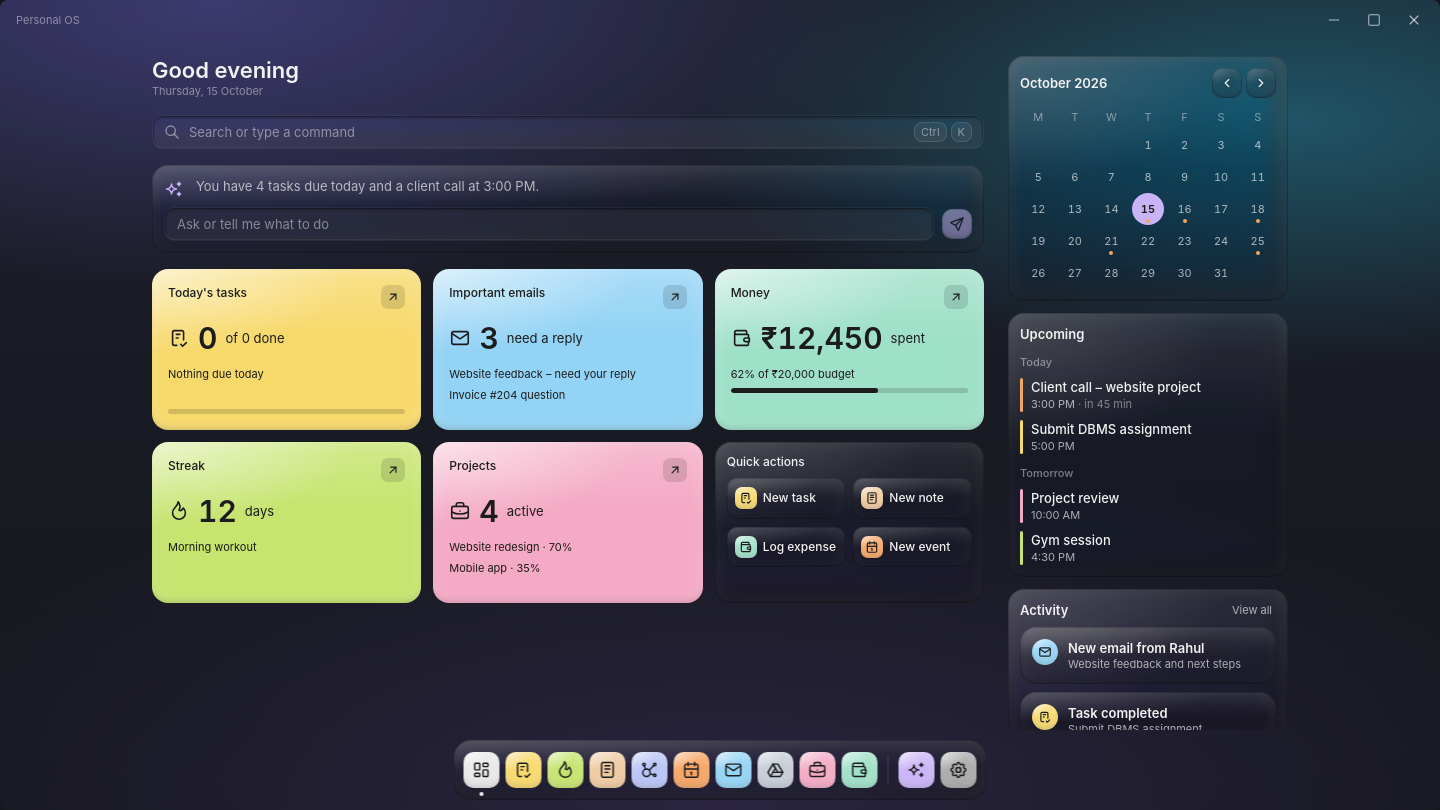
Test: searching data from the palette › lists matching tasks and tags under the commands, with the typed words marked
Type keys "{Control>}k{/Control}"
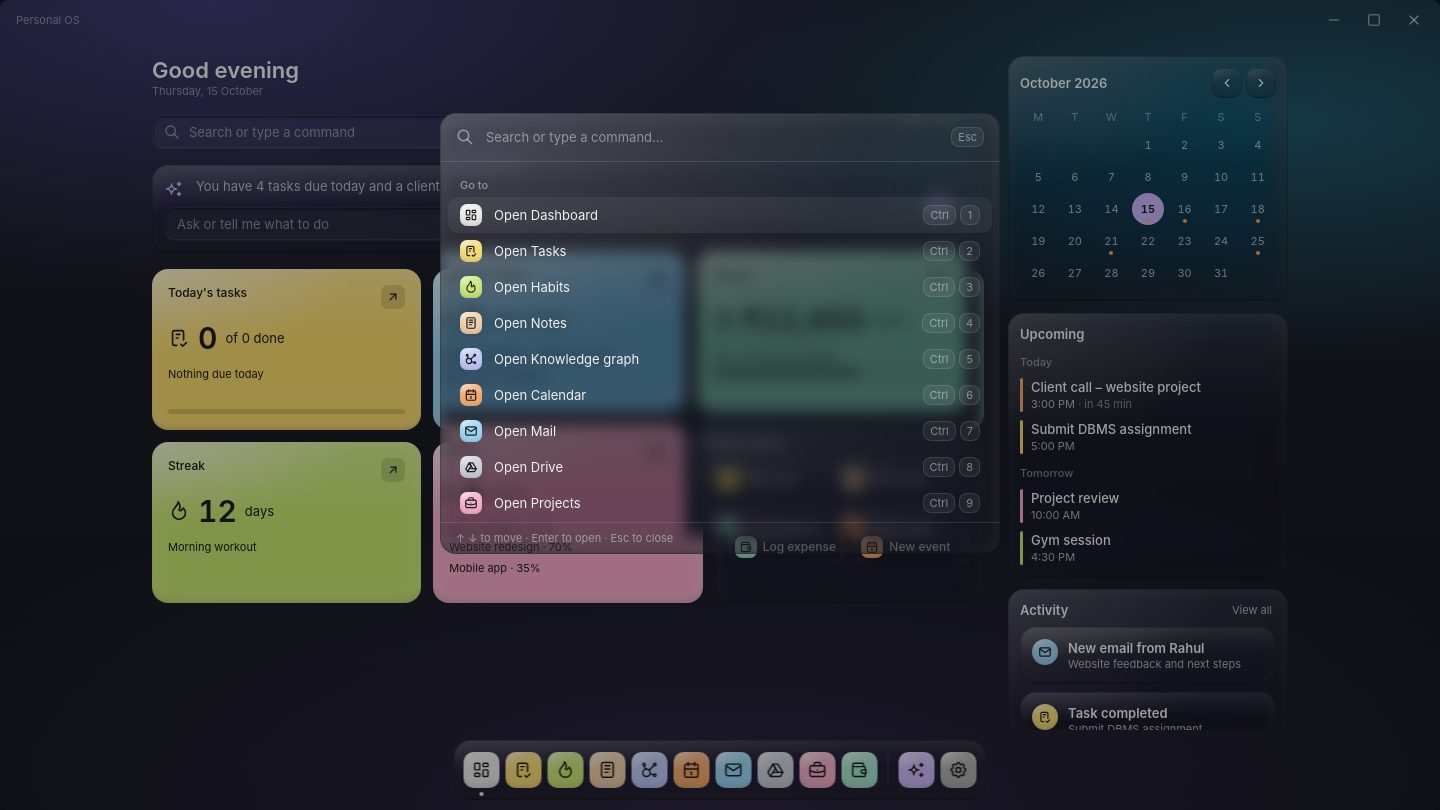
Type "pa re" into the dropdown with placeholder "Search or type a command…" at (713, 137), box [486,113,939,161]
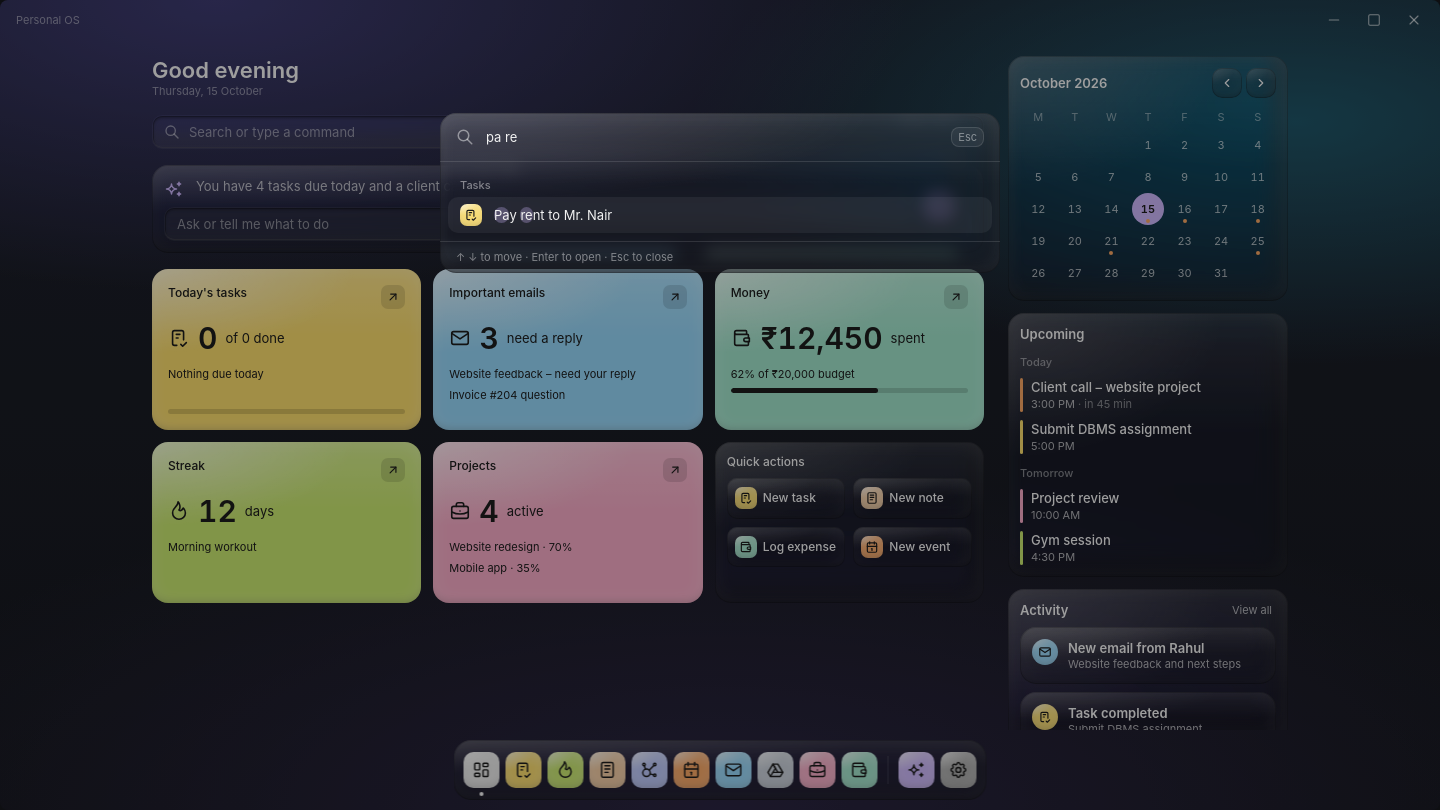
expect the text "Tasks" is shown: met, box [460,178,491,192]
Replace the text in the dropdown with placeholder "Search or type a command…" with "pap" at (713, 137), box [486,113,939,161]
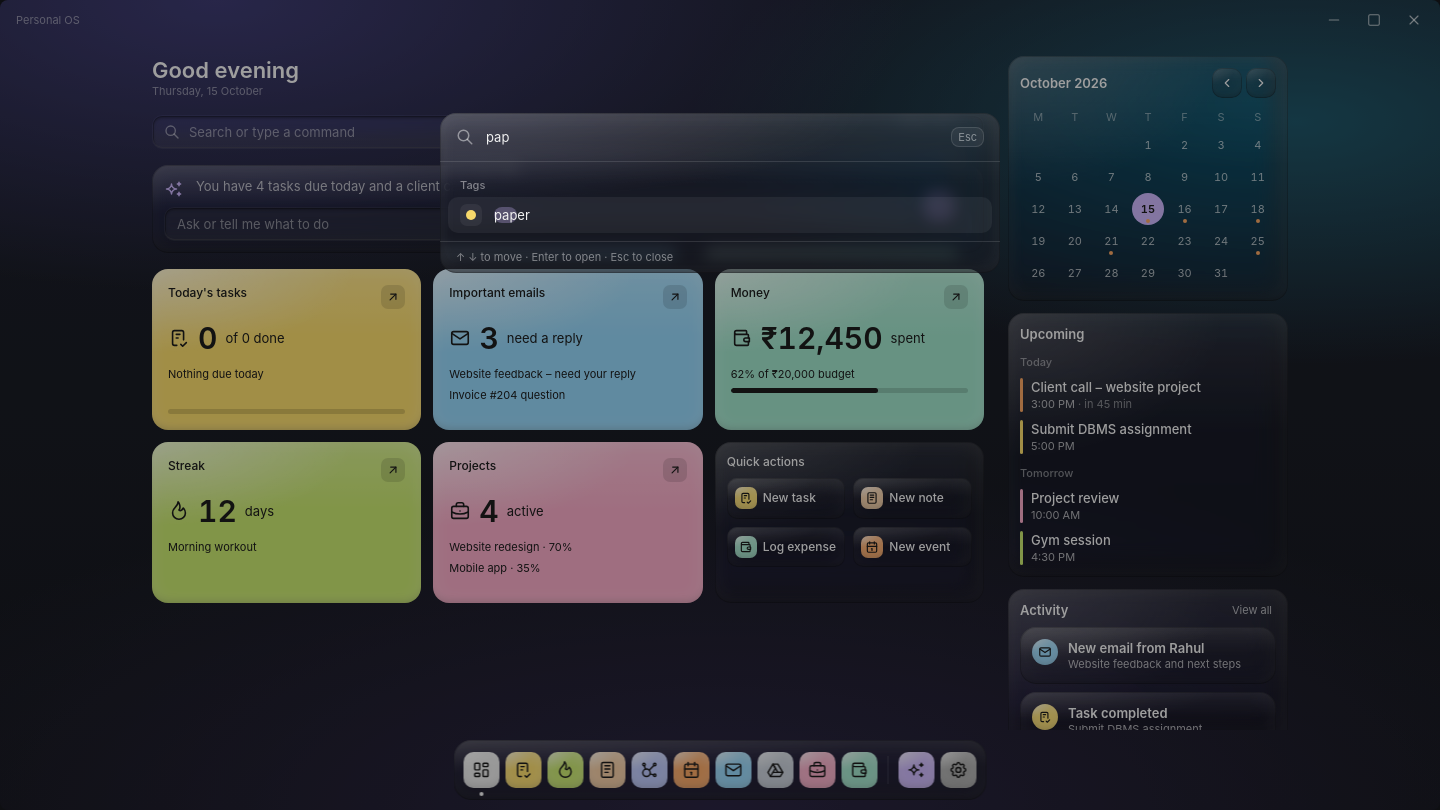
expect the text "Tags" is shown: met, box [460,178,485,192]
expect the option "paper" is shown: met, box [448,197,992,233]
